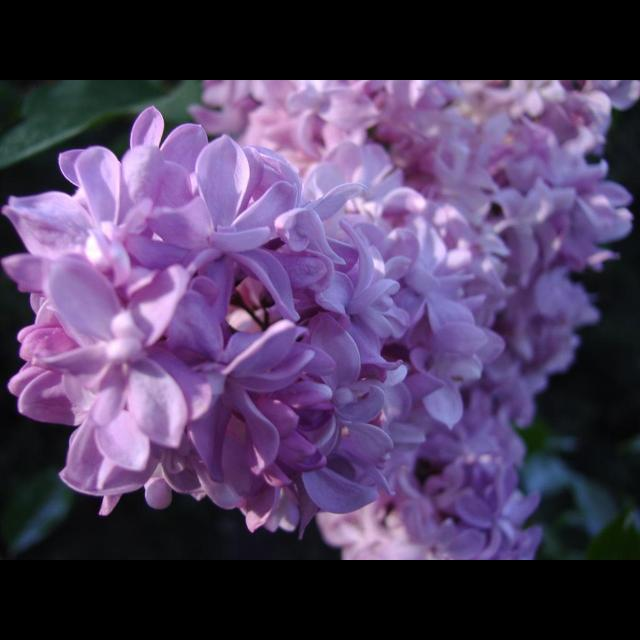Flower: (189, 80, 639, 560), (7, 98, 401, 560)
